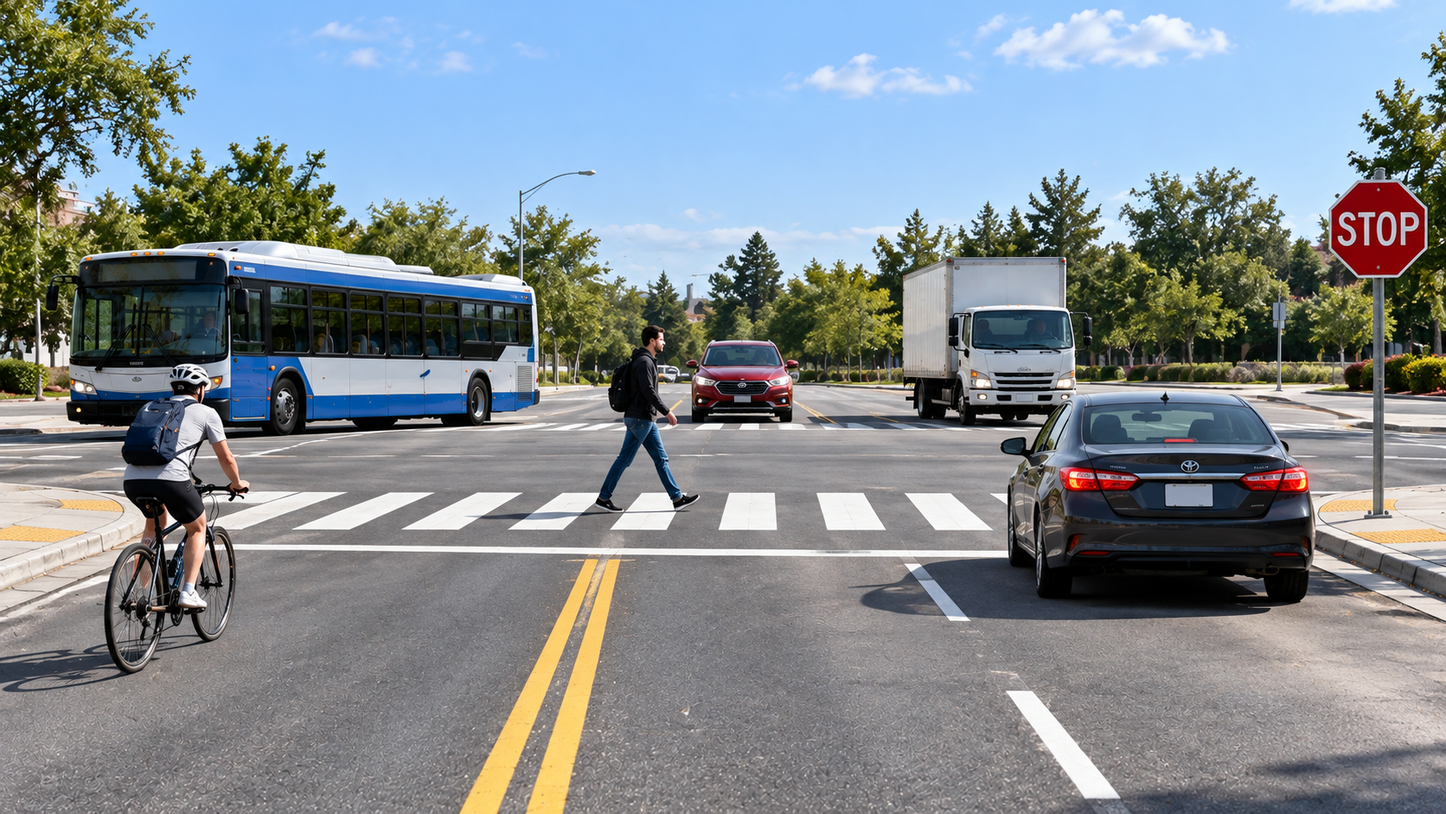bicycle: (105, 364, 252, 676)
bus: (44, 238, 541, 439)
car: (990, 390, 1315, 608), (681, 339, 803, 427)
person: (116, 365, 246, 606), (594, 324, 695, 511)
stop_sign: (1327, 176, 1429, 281)
zebra_crossing: (198, 488, 993, 544)
